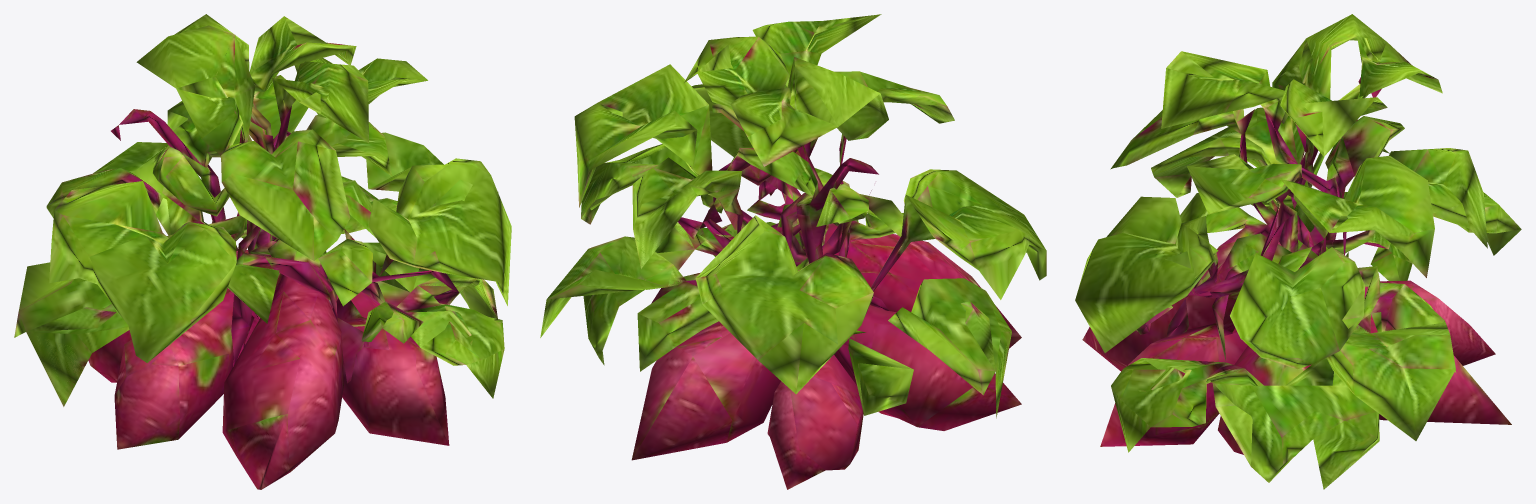
The model's file is crop_sweetpotato.glb.
The picture shows the model from 3 angles, left to right: view 1: azimuth 30°, elevation 25°; view 2: azimuth 150°, elevation 25°; view 3: azimuth 270°, elevation 25°; orthographic projection. The views are drawn at different scales.
Size of the model in its own units: 1 by 0.7998 by 0.8965.
1 material, 1 textured.
